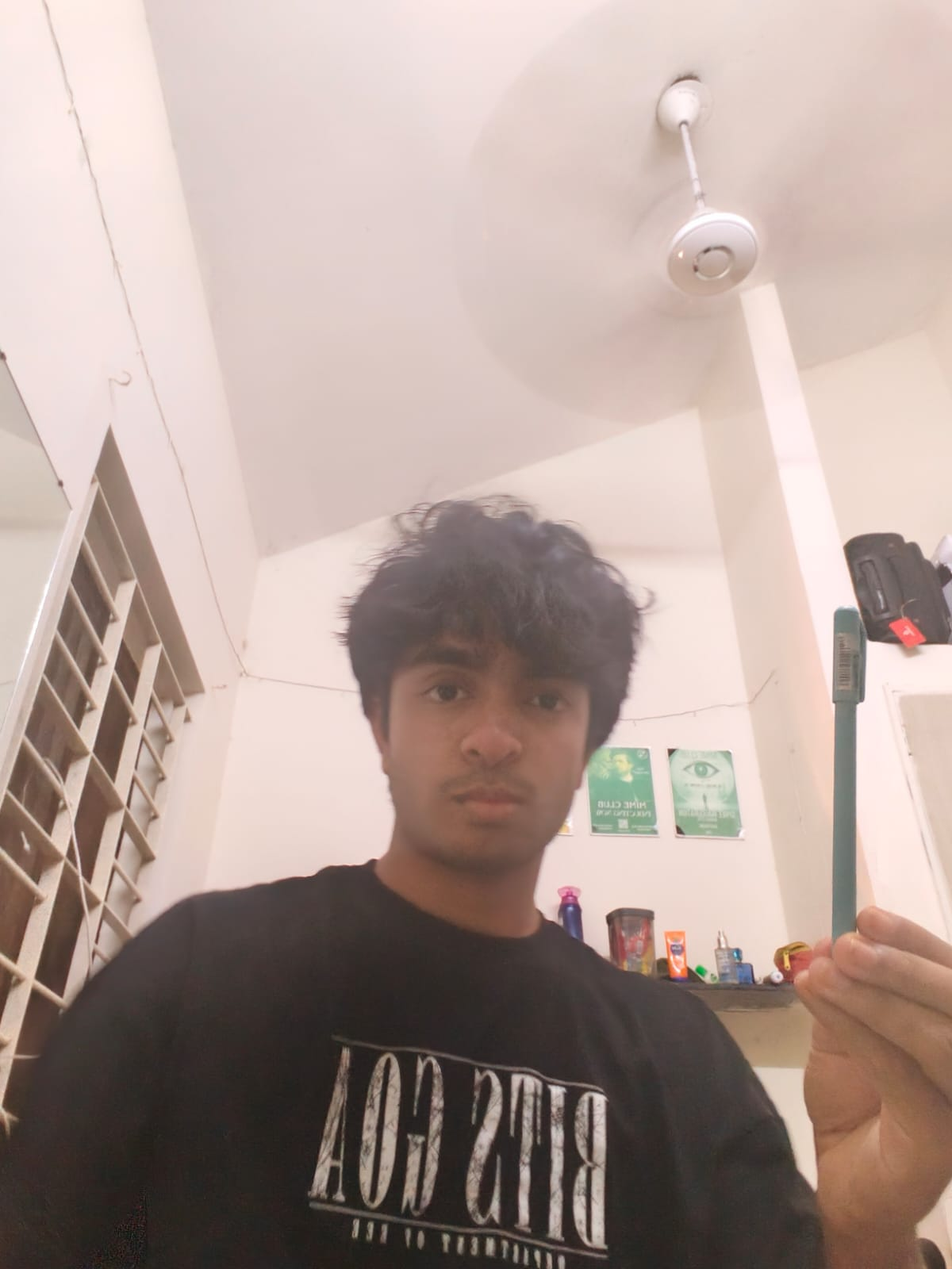pen: (820, 604, 881, 954)
